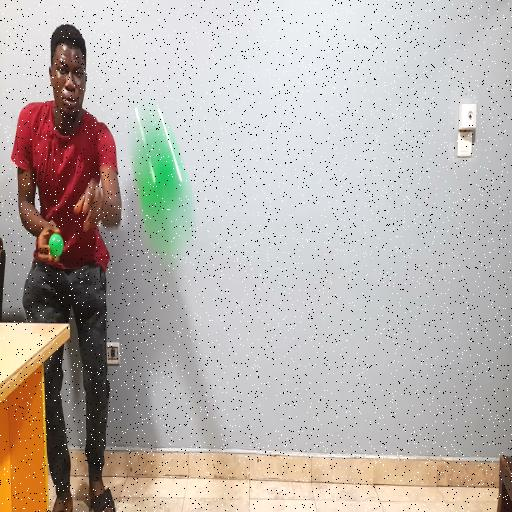plastic-ball: (131, 108, 192, 257)
